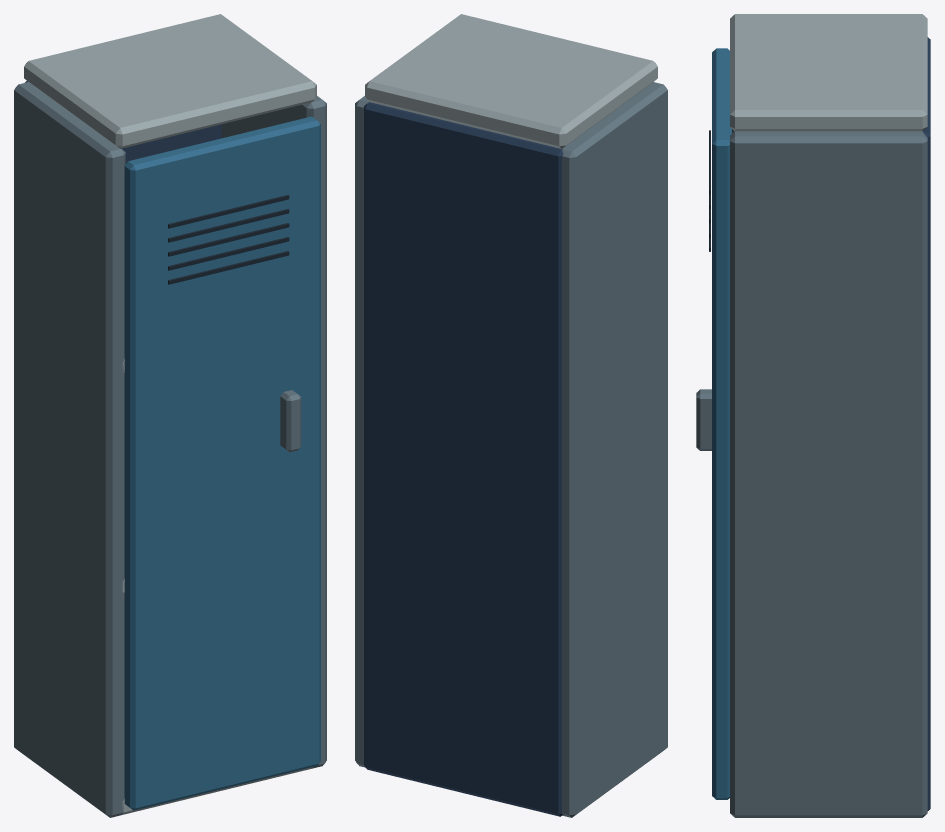
File: objects-wardrobe.lod0.glb
3 renders of one model, left to right at view 1: azimuth 30°, elevation 25°; view 2: azimuth 150°, elevation 25°; view 3: azimuth 270°, elevation 25°, orthographic. The views are drawn at different scales.
Visible parts, largest first — view 1: objects-wardrobe__door, objects-wardrobe__body; view 2: objects-wardrobe__body; view 3: objects-wardrobe__body, objects-wardrobe__door.
Part boxes in pixels (x1,y1,x2,y2): objects-wardrobe__door: (124, 116, 320, 810); objects-wardrobe__body: (14, 14, 326, 817); objects-wardrobe__body: (355, 14, 667, 817); objects-wardrobe__body: (730, 14, 930, 817); objects-wardrobe__door: (696, 48, 731, 799).
Size of the model in its own units: 0.66 by 1.96 by 0.5925.
